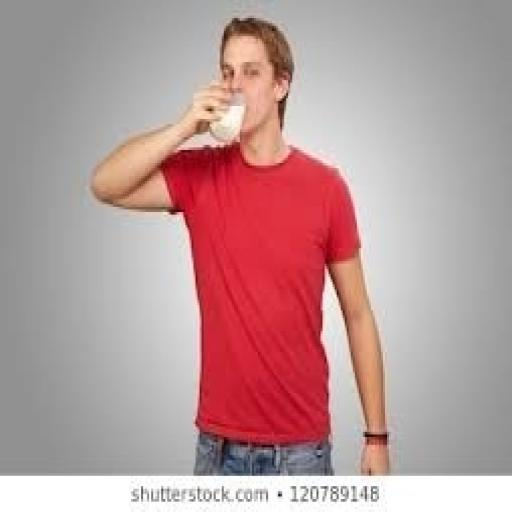drinking: (208, 91, 246, 142)
